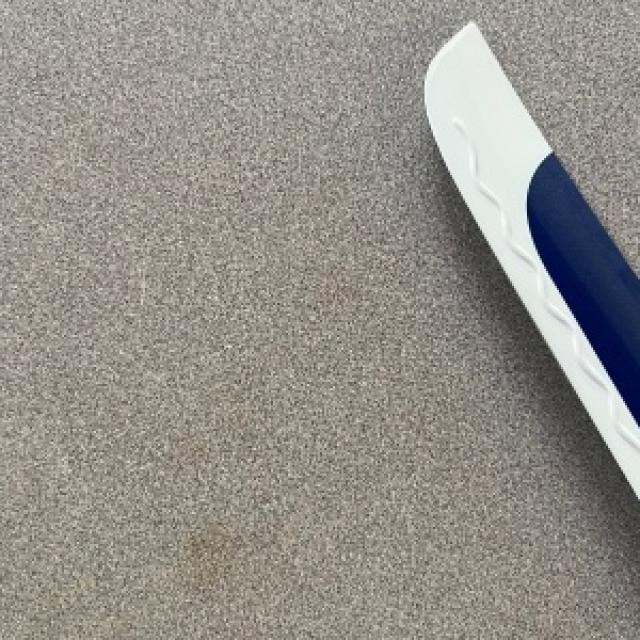healthy: (422, 23, 638, 493)
